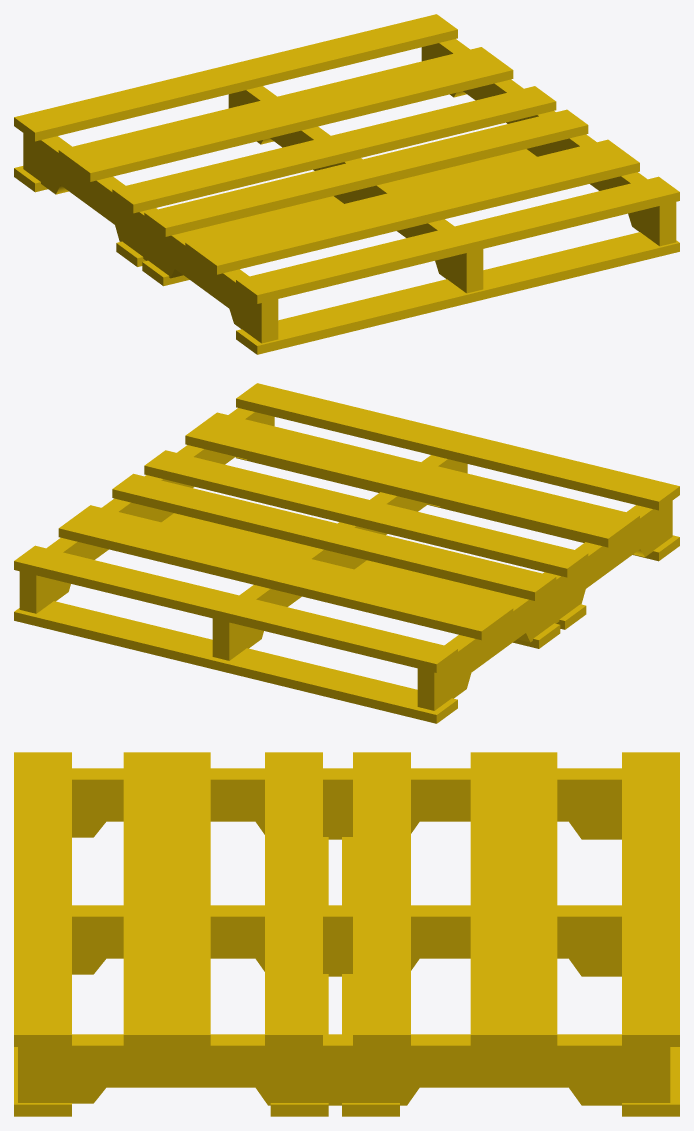
File: WoodPallet.fbx
3 views of the same model, one above another, from view 1: azimuth 30°, elevation 25°; view 2: azimuth 150°, elevation 25°; view 3: azimuth 270°, elevation 25° (orthographic). The views are drawn at different scales.
Parts seen in each view (by area): view 1: WoodPallet; view 2: WoodPallet; view 3: WoodPallet.
Part boxes in pixels (x1,y1,x2,y2): WoodPallet: (14, 14, 679, 354); WoodPallet: (14, 383, 679, 723); WoodPallet: (14, 752, 679, 1116).
Bounding box in the file's own units: 100 × 13.5 × 99.78.
